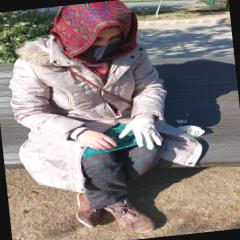gloved: (118, 113, 162, 152)
not-gloved: (72, 127, 116, 154)
